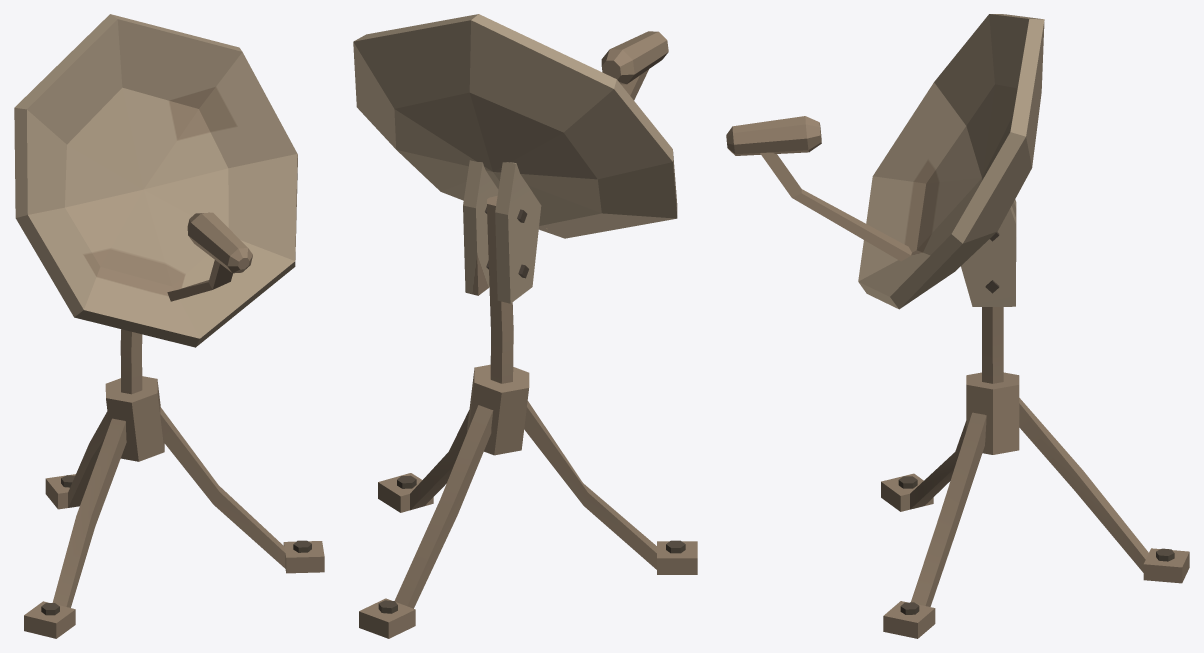
File: SM_Prop_Satellite_Dish_02.fbx
The picture shows the model from 3 angles, left to right: view 1: azimuth 30°, elevation 25°; view 2: azimuth 150°, elevation 25°; view 3: azimuth 270°, elevation 25°; orthographic projection. The views are drawn at different scales.
Parts seen in each view (by area): view 1: SM_Prop_Satellite_Dish_02; view 2: SM_Prop_Satellite_Dish_02; view 3: SM_Prop_Satellite_Dish_02.
Boxes of the visible parts, bbox=[...] form: SM_Prop_Satellite_Dish_02: bbox=[14, 14, 324, 638]; SM_Prop_Satellite_Dish_02: bbox=[353, 14, 697, 638]; SM_Prop_Satellite_Dish_02: bbox=[726, 14, 1189, 638].
Size of the model in its own units: 126 by 214 by 165.
